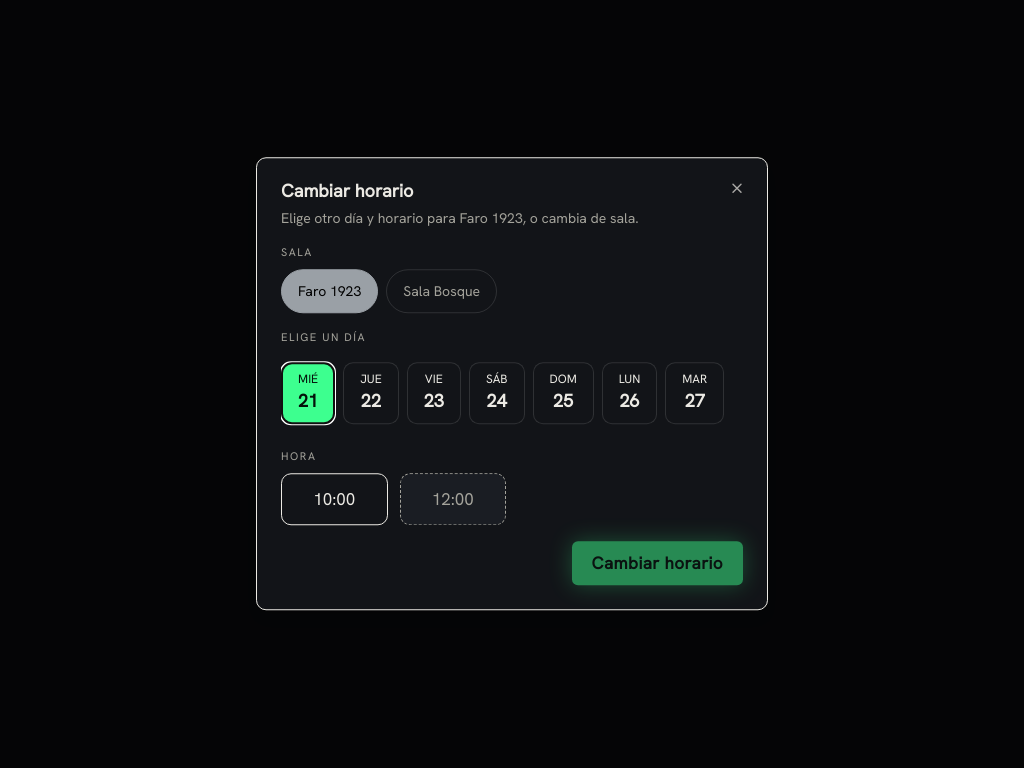
ChangeSlotDialog › disables a taken slot and keeps Save disabled until a free slot is chosen
Expected: the button "12:00" is disabled, [400, 473, 506, 526]
Expected: the button "Cambiar horario" is disabled, [572, 542, 743, 586]
Click the button "10:00".
click(334, 500)  # box [281, 473, 388, 526]
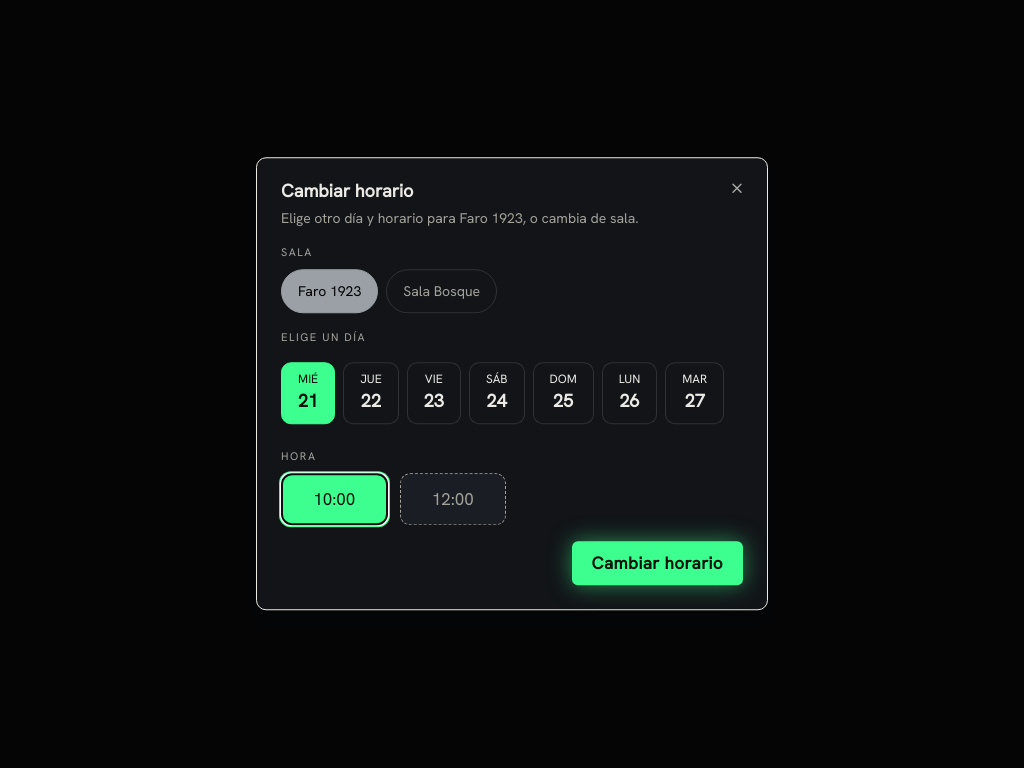
Now the button "Cambiar horario" is enabled, box [572, 542, 743, 586]
